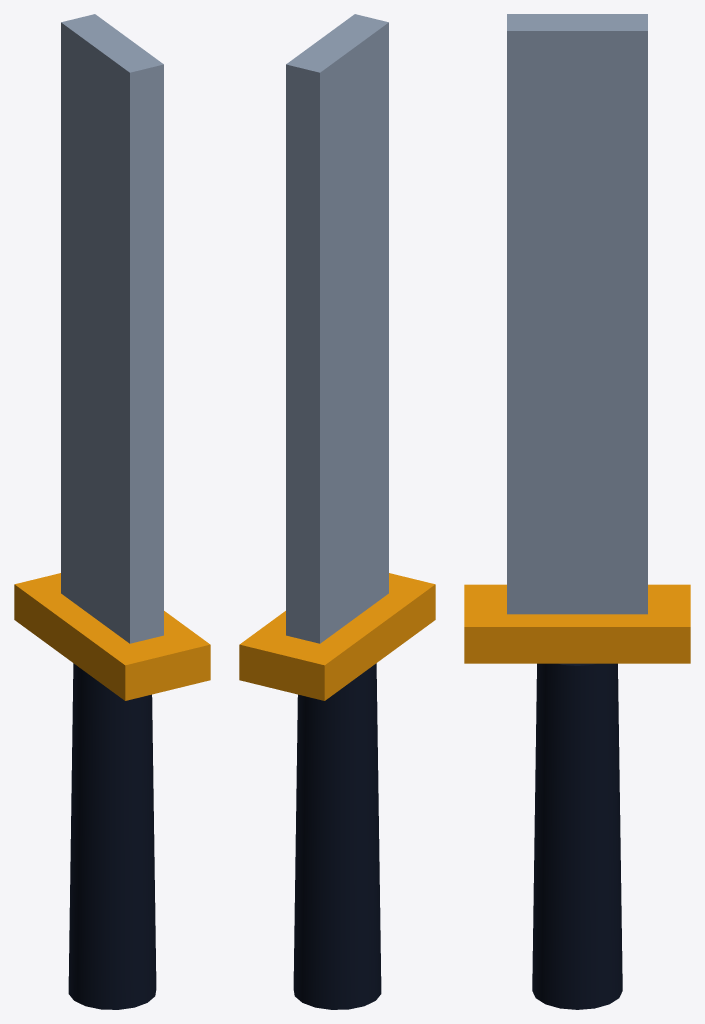
File: placeholder-weapon.glb
The picture shows the model from 3 angles, left to right: view 1: azimuth 30°, elevation 25°; view 2: azimuth 150°, elevation 25°; view 3: azimuth 270°, elevation 25°; orthographic projection. The views are drawn at different scales.
Size of the model in its own units: 0.2 by 2.12 by 0.45.
